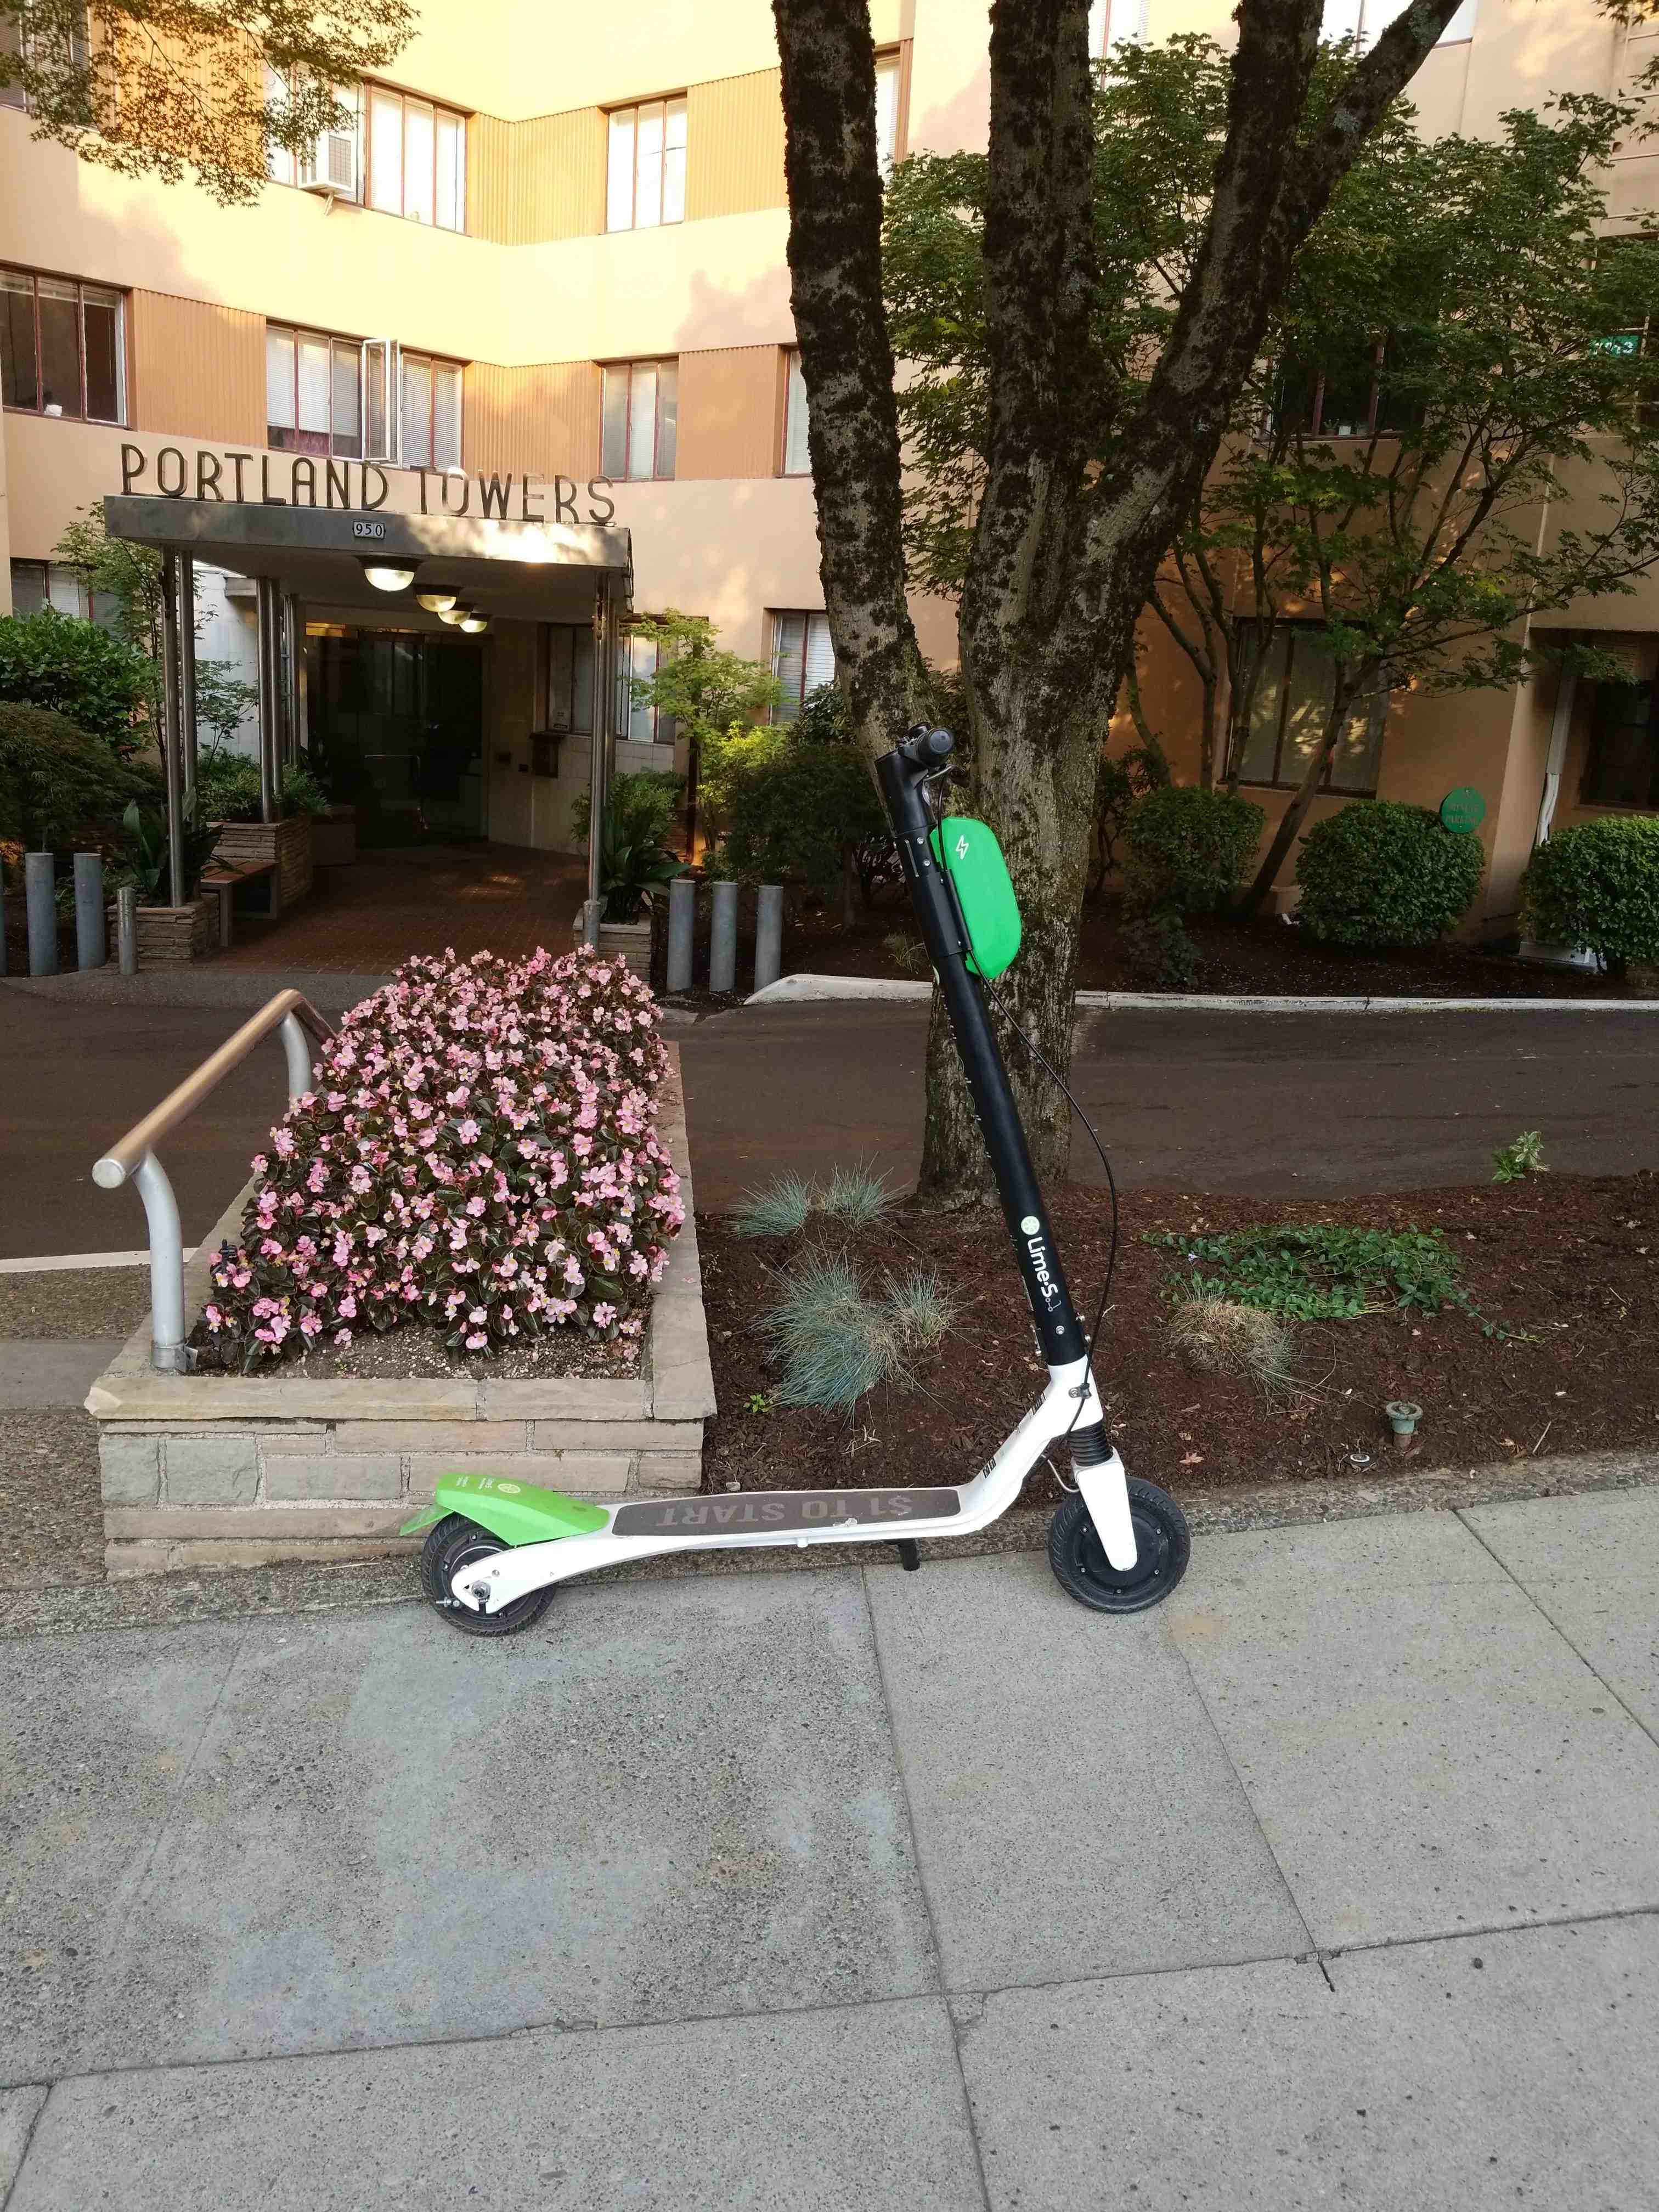scooter: (392, 624, 1185, 1688)
